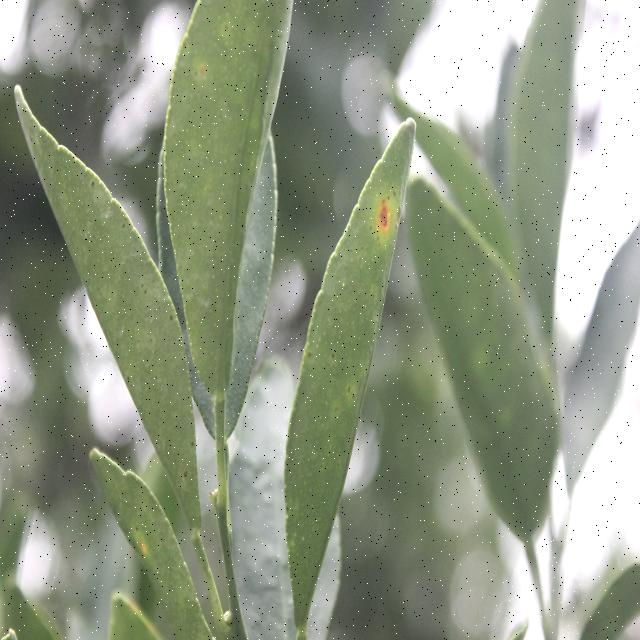blackspot: (72, 168, 205, 498), (286, 265, 379, 540)
